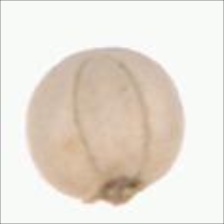L5: (71, 52, 149, 173), (76, 174, 150, 208), (68, 46, 136, 57)
L6: (23, 42, 187, 208)
